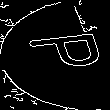P_E: (7, 32, 103, 78)
